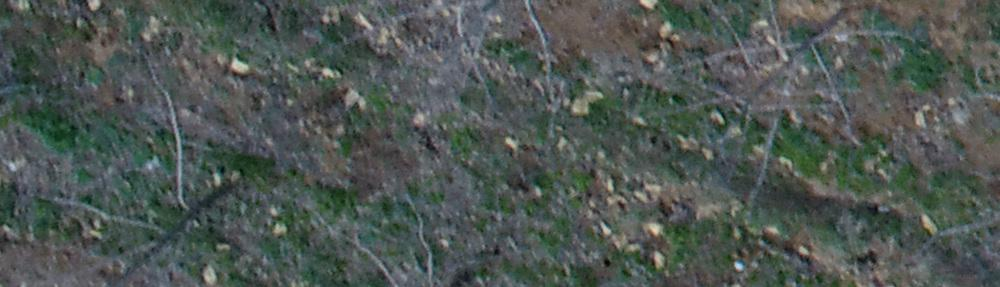apple: (641, 10, 910, 186), (401, 10, 620, 115)
